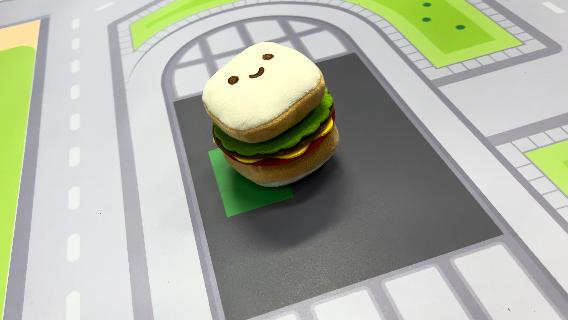sandwich: (200, 40, 341, 188)
